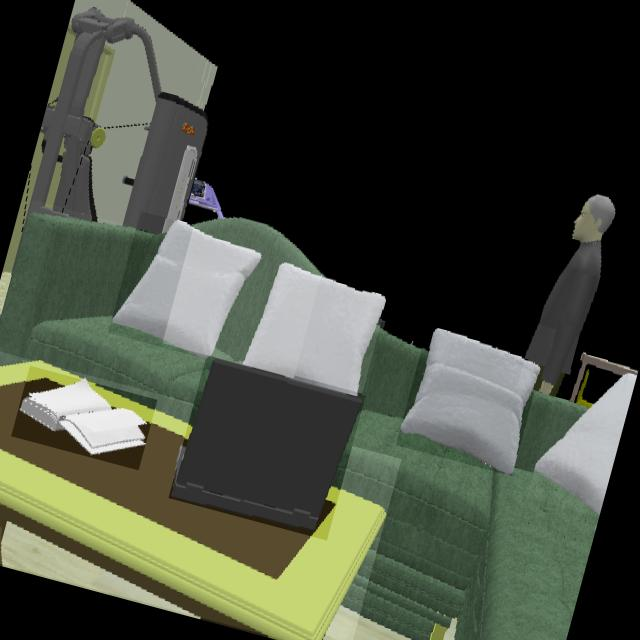book: (17, 380, 146, 457)
laptop: (171, 358, 361, 532)
person: (525, 196, 614, 396)
pillow: (111, 221, 263, 359), (401, 328, 540, 475), (243, 262, 385, 395), (534, 374, 636, 516)
sofa: (336, 328, 598, 640), (0, 215, 213, 424), (193, 218, 321, 364)
table: (0, 361, 384, 640)
